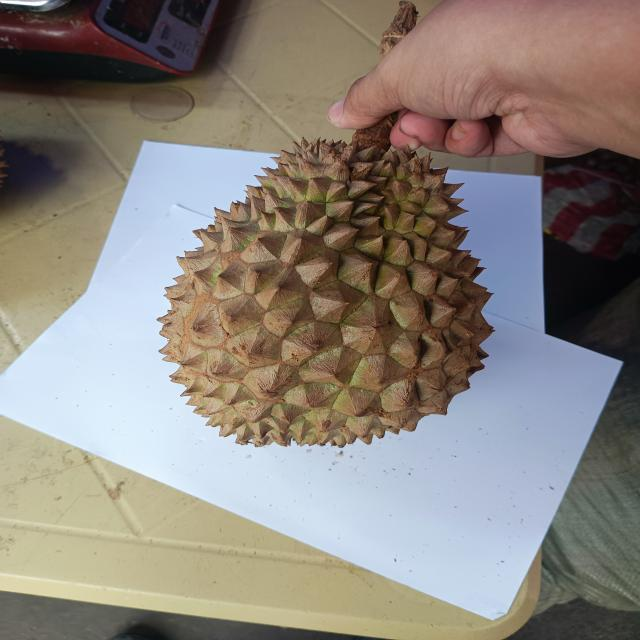mature: (156, 114, 492, 448)
